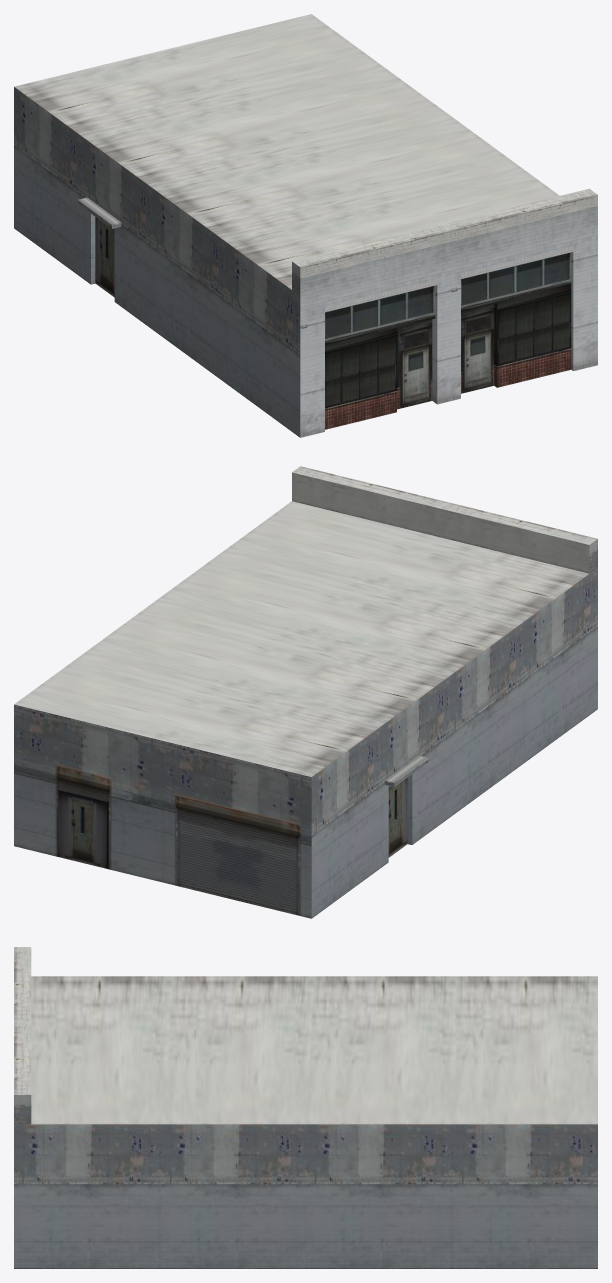
Rendered from o3_edificio_fondo_1.glb.
3 renders of one model, top to bottom at view 1: azimuth 30°, elevation 25°; view 2: azimuth 150°, elevation 25°; view 3: azimuth 270°, elevation 25°, orthographic.
Parts seen in each view (by area): view 1: sb_modello; view 2: sb_modello; view 3: sb_modello.
Boxes of the visible parts, x1=… form: sb_modello: x1=14, y1=14, x2=597, y2=437; sb_modello: x1=14, y1=466, x2=597, y2=918; sb_modello: x1=14, y1=947, x2=597, y2=1268.
Size of the model in its own units: 12.39 by 6.57 by 20.01.
Materials: 2 (2 with a texture image).
